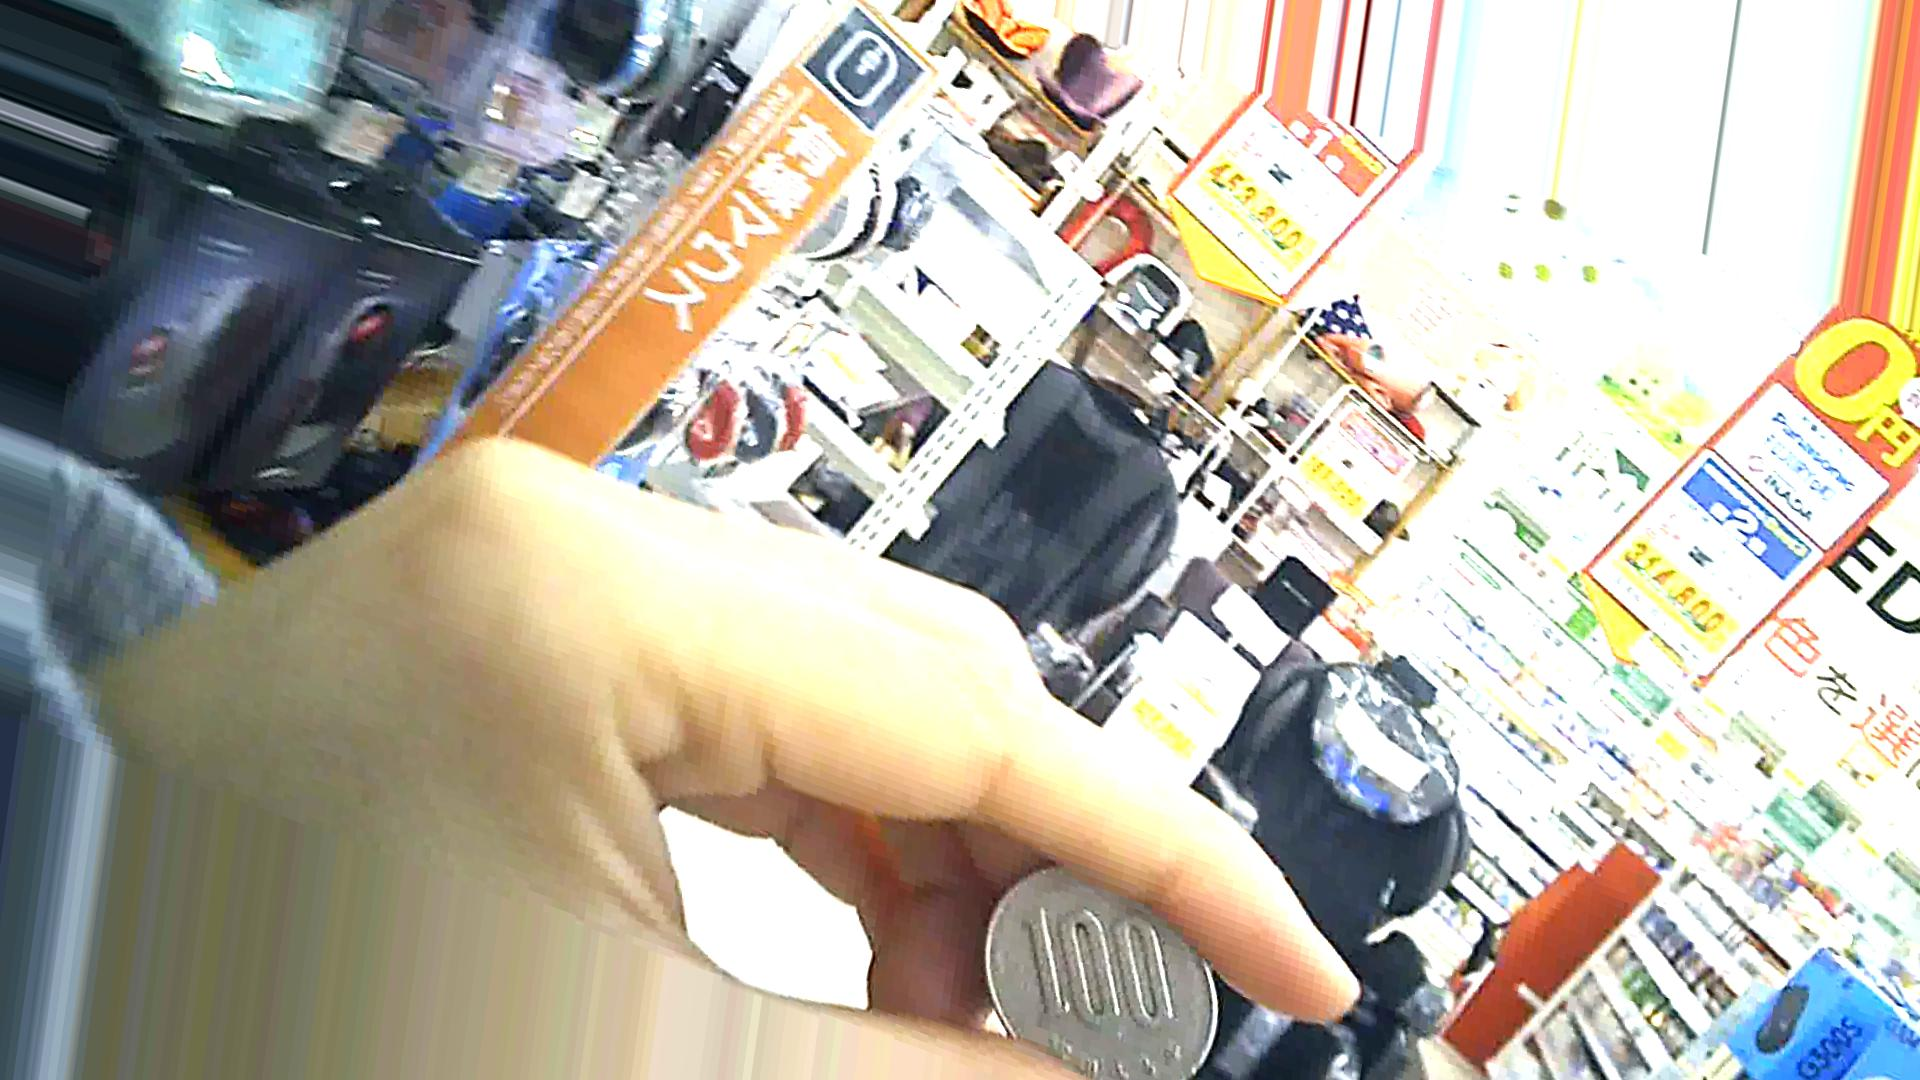100 Yen: (973, 845, 1230, 1069)
